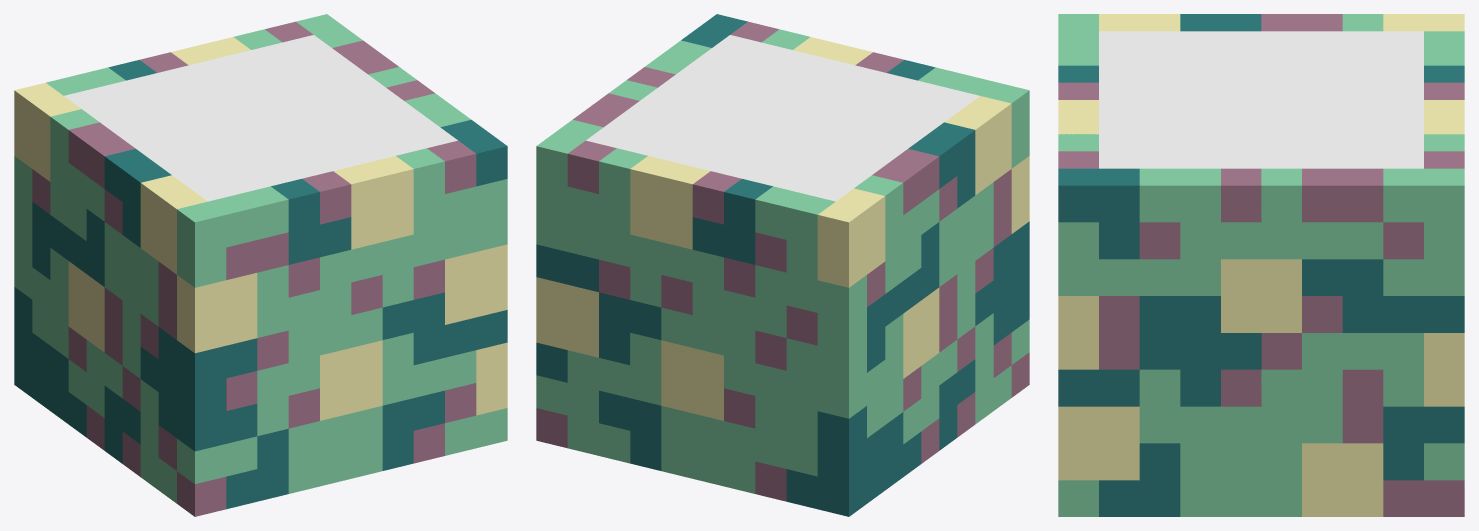
The model's file is towerBlock.fbx.
The picture shows the model from 3 angles, left to right: view 1: azimuth 30°, elevation 25°; view 2: azimuth 150°, elevation 25°; view 3: azimuth 270°, elevation 25°; orthographic projection. The views are drawn at different scales.
Visible parts, largest first — view 1: filler, quad14, quad15, triple29, quad16, quad18, double85, triple30, quad24, quad22, triple28, double86 (+88 smaller); view 2: filler, quad24, quad25, quad26, quad21, triple47, triple51, quad22, triple48, double132, double148, triple50 (+90 smaller); view 3: filler, quad17, quad20, triple37, quad19, triple39, triple38, triple35, triple34, triple36, double118, double108 (+56 smaller).
Boxes of the visible parts, x1,y1,x2,y2 form: filler: (64, 35, 457, 201); quad14: (177, 273, 257, 353); quad15: (333, 156, 413, 249); triple29: (177, 338, 257, 418); quad16: (320, 340, 382, 420); quad18: (445, 244, 507, 324); double85: (177, 201, 226, 287); triple30: (271, 179, 351, 264); quad24: (14, 82, 80, 181); quad22: (140, 175, 207, 274); triple28: (158, 392, 257, 451); double86: (208, 186, 288, 247); filler: (586, 35, 979, 201); quad24: (817, 188, 885, 287); quad25: (630, 156, 710, 249); quad26: (661, 340, 723, 420); quad21: (536, 277, 598, 357); triple47: (817, 406, 885, 483); triple51: (692, 179, 772, 264); quad22: (944, 96, 1011, 194); triple48: (786, 458, 885, 516); double132: (817, 275, 866, 353); double148: (755, 186, 835, 247); triple50: (599, 390, 661, 470); filler: (1099, 31, 1423, 168); quad17: (1058, 406, 1139, 480); quad20: (1302, 443, 1383, 516); triple37: (1058, 168, 1139, 259); quad19: (1221, 259, 1301, 332); triple39: (1383, 406, 1464, 480); triple38: (1302, 259, 1383, 332); triple35: (1139, 296, 1220, 369); triple34: (1099, 443, 1180, 516); triple36: (1180, 333, 1261, 406); double118: (1383, 168, 1464, 222); double108: (1139, 168, 1220, 222).
Size of the model in its own units: 10 by 9 by 10.
